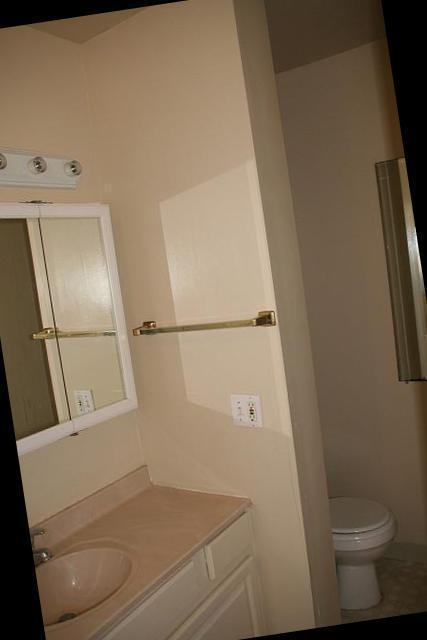Lavamanos: (28, 502, 152, 640)
